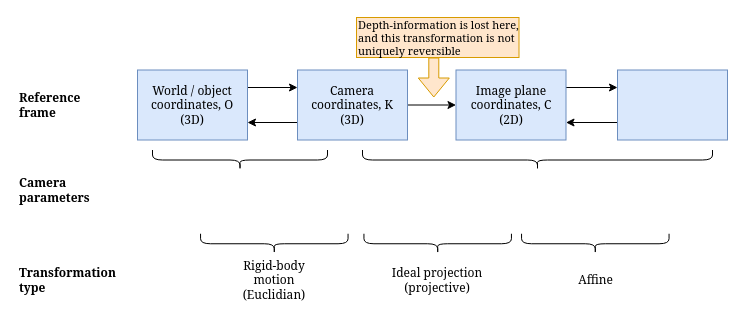
The diagram is 745 pixels wide and 319 high, and some of its shapes have lost their labels. Here are the shapes that lost their labels. From the top down, the centre of each, then its label:
the point at 672,104: Sensor coordinates, S (2D)
the point at 240,159: Extrinsics (camera pose)
the point at 537,159: Intrinsics (focal length,sensor geometry, maybe non-lin. distortion)
